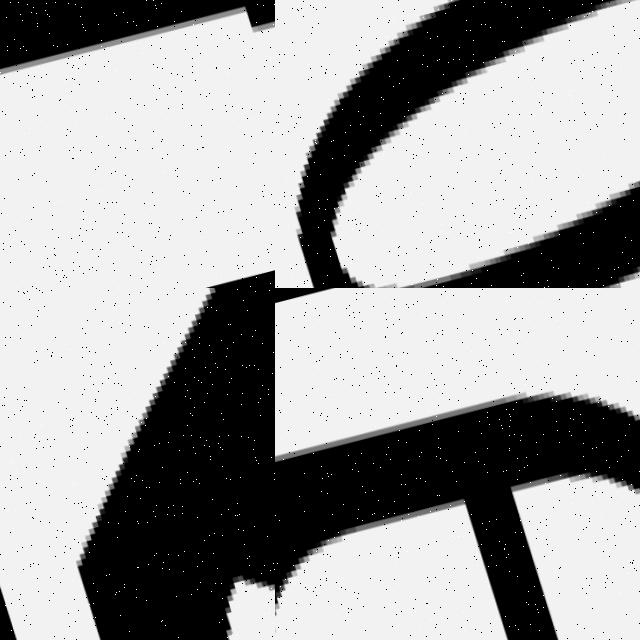0: (275, 0, 640, 288)
A: (275, 288, 640, 640)
T: (0, 0, 275, 140)
Y: (0, 288, 275, 640)
